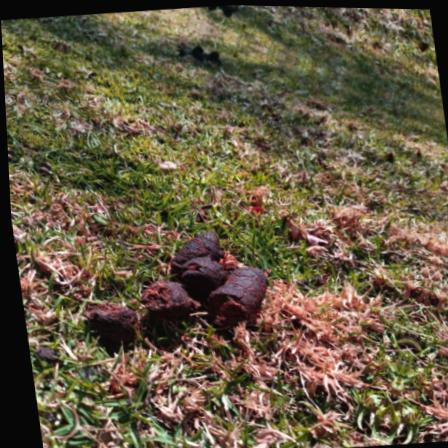dog-poop: (74, 224, 266, 344)
